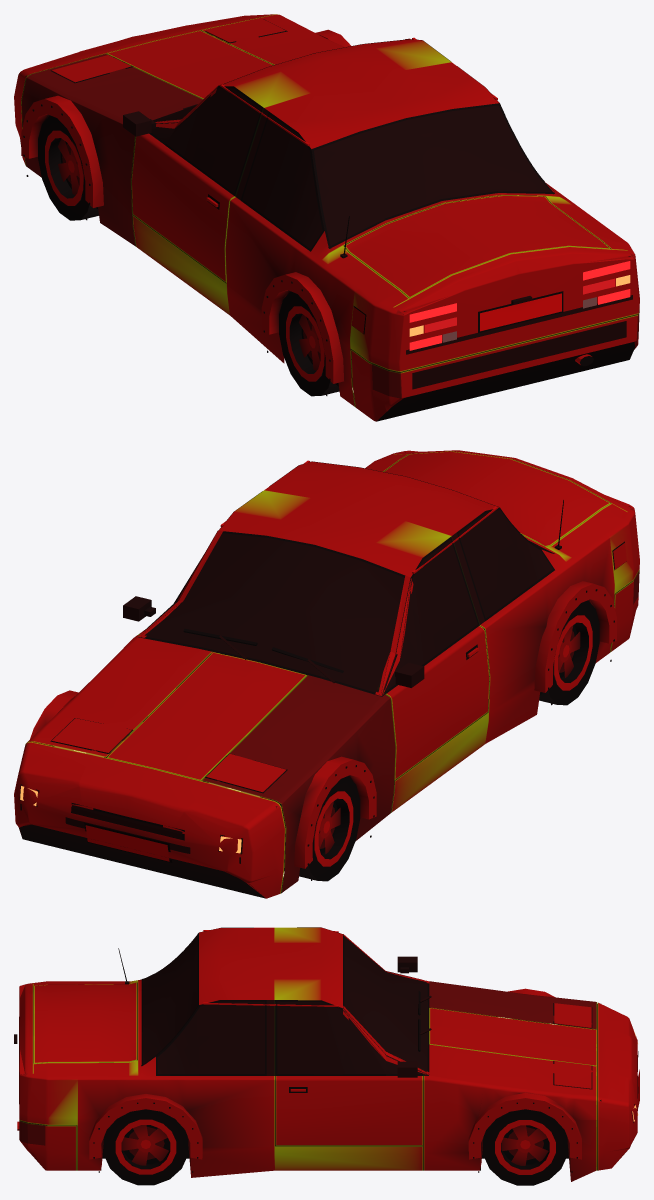
The model's file is body.glb.
3 renders of one model, top to bottom at view 1: azimuth 30°, elevation 25°; view 2: azimuth 150°, elevation 25°; view 3: azimuth 270°, elevation 25°, orthographic. The views are drawn at different scales.
Parts seen in each view (by area): view 1: body, glass_backlight, trunk, fender_fl, door_l, glass_quarter_l, glass_door_l, hood, bumper_r, underbody, wheel_fl_mesh, wheel_rl_mesh (+16 smaller); view 2: body, glass_windshield, bumper_f, fender_fl, hood, trunk, door_l, fender_fr, glass_door_l, glass_quarter_l, wheel_fl_mesh, underbody (+15 smaller); view 3: body, fender_fr, door_r, trunk, glass_windshield, glass_door_r, glass_quarter_r, hood, bumper_f, wheel_fr_mesh, wheel_rr_mesh, glass_backlight (+12 smaller).
Boxes of the visible parts, x1,y1,x2,y2 form: body: (132, 39, 639, 406); glass_backlight: (312, 105, 552, 247); trunk: (344, 195, 610, 298); fender_fl: (21, 53, 202, 246); door_l: (131, 133, 234, 282); glass_quarter_l: (242, 114, 324, 251); glass_door_l: (151, 87, 263, 196); hood: (106, 30, 273, 99); bumper_r: (351, 309, 639, 421); underbody: (20, 123, 634, 421); wheel_fl_mesh: (38, 115, 98, 220); wheel_rl_mesh: (279, 291, 352, 396); body: (219, 450, 639, 812); glass_windshield: (144, 533, 409, 696); bumper_f: (14, 741, 285, 898); fender_fl: (201, 675, 395, 892); hood: (107, 652, 306, 781); trunk: (384, 451, 610, 546); door_l: (386, 626, 489, 779); fender_fr: (26, 635, 211, 757); glass_door_l: (383, 539, 477, 693); glass_quarter_l: (456, 510, 552, 620); wheel_fl_mesh: (280, 776, 360, 881); underbody: (18, 599, 614, 898); body: (19, 927, 422, 1177); fender_fr: (423, 1044, 596, 1181); door_r: (275, 1076, 422, 1145); trunk: (34, 982, 136, 1063); glass_windshield: (343, 936, 427, 1073); glass_door_r: (277, 1000, 422, 1075); glass_quarter_r: (156, 1001, 264, 1075); hood: (429, 1008, 596, 1066); bumper_f: (596, 1002, 637, 1170); wheel_fr_mesh: (483, 1109, 567, 1185); wheel_rr_mesh: (103, 1109, 188, 1185); glass_backlight: (142, 935, 198, 1065).
Size of the model in its own units: 1.83 by 1.33 by 4.36.
